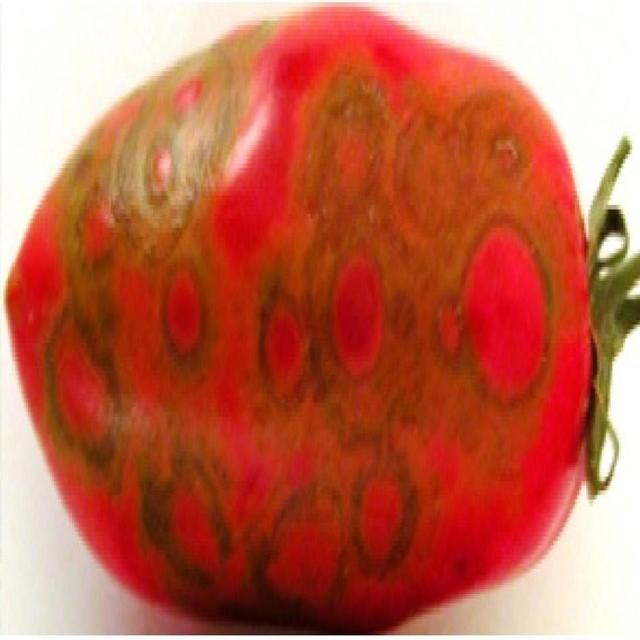Spotted wilt Virus Fruit: (3, 0, 397, 422)
